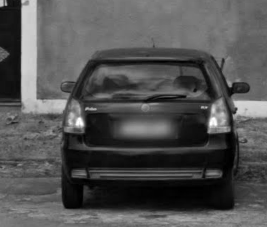car: (58, 47, 250, 213)
